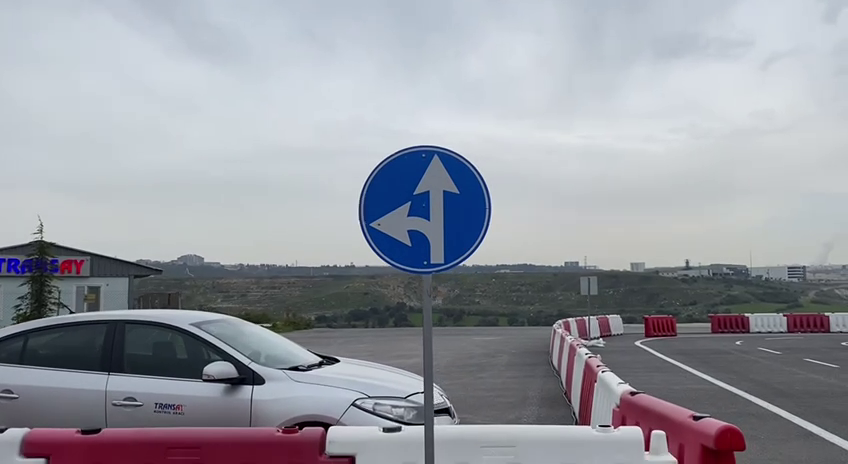forwardAndLeft: (355, 142, 495, 278)
